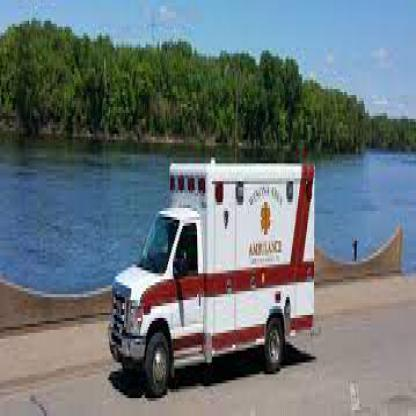Ambulance - v1 Ambulance last generate: (107, 158, 322, 387)
